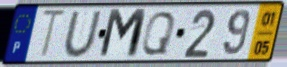2: (183, 6, 219, 60)
9: (221, 8, 252, 58)
M: (96, 7, 150, 61)
Q: (139, 10, 178, 57)
T: (38, 8, 69, 62)
U: (62, 9, 104, 59)
